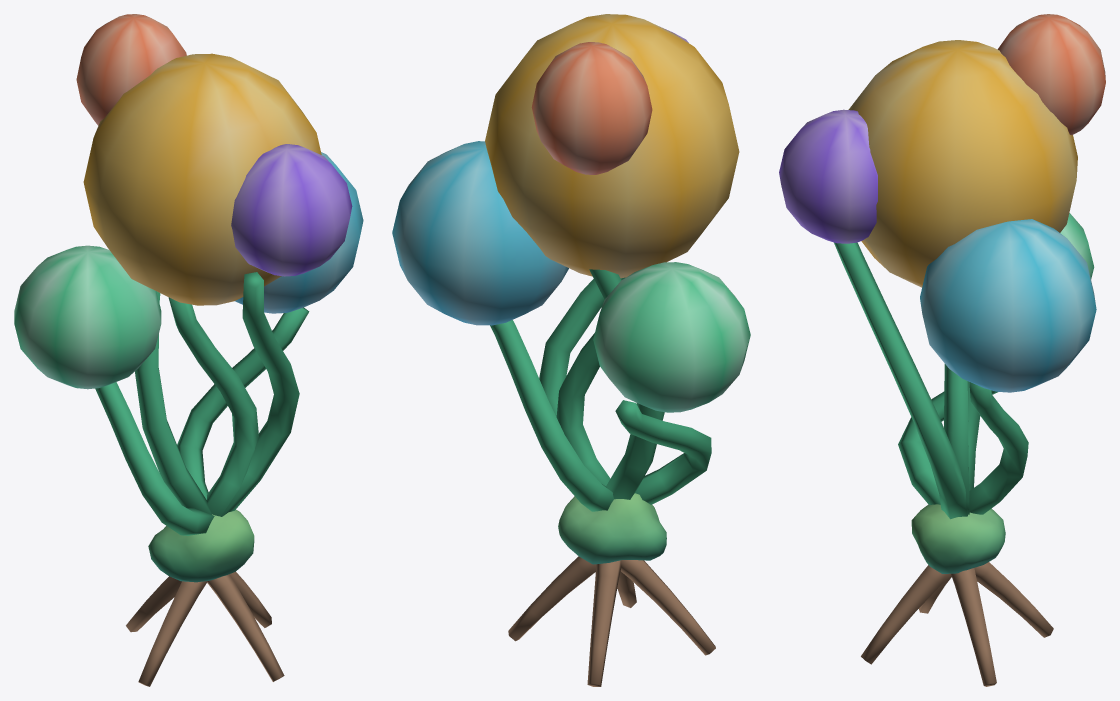
The model's file is verdant_float_seedpods.glb.
3 renders of one model, left to right at view 1: azimuth 30°, elevation 25°; view 2: azimuth 150°, elevation 25°; view 3: azimuth 270°, elevation 25°, orthographic. The views are drawn at different scales.
Parts seen in each view (by area): view 1: verdant_float_seedpods; view 2: verdant_float_seedpods; view 3: verdant_float_seedpods.
Boxes of the visible parts, x1,y1,x2,y2 form: verdant_float_seedpods: (14, 14, 363, 686); verdant_float_seedpods: (392, 14, 750, 686); verdant_float_seedpods: (779, 14, 1105, 686).
Size of the model in its own units: 1.86 by 3.36 by 1.61.
